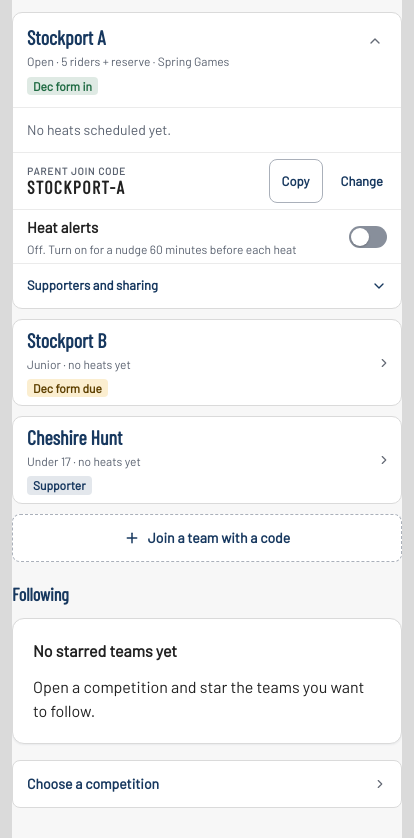
it: MyTeamsPage layout › offers to set a code when the team has none
Click the button "Stockport B Junior · no heats yet Dec form due".
click(67, 340)  # box 12,319 -> 402,406
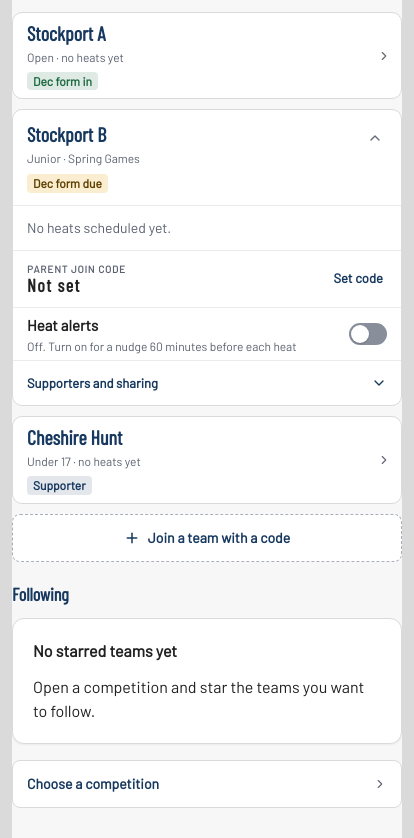
Click the button "Set code".
click(358, 279)  # box 323,257 -> 393,301
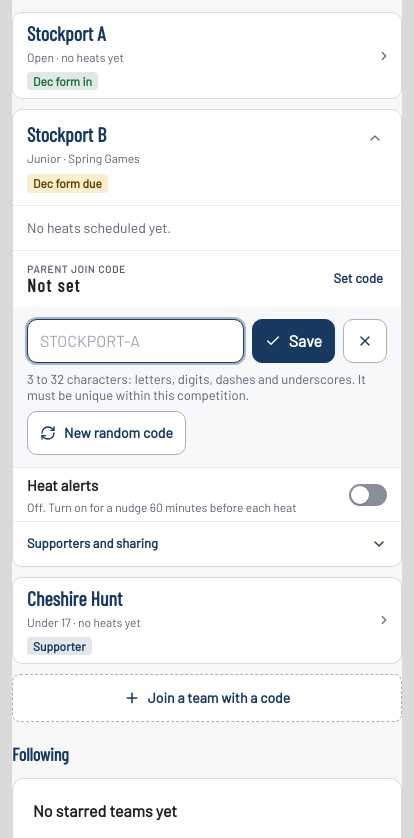
Expected: the field named "New join code" is shown, 27,319 -> 244,363
